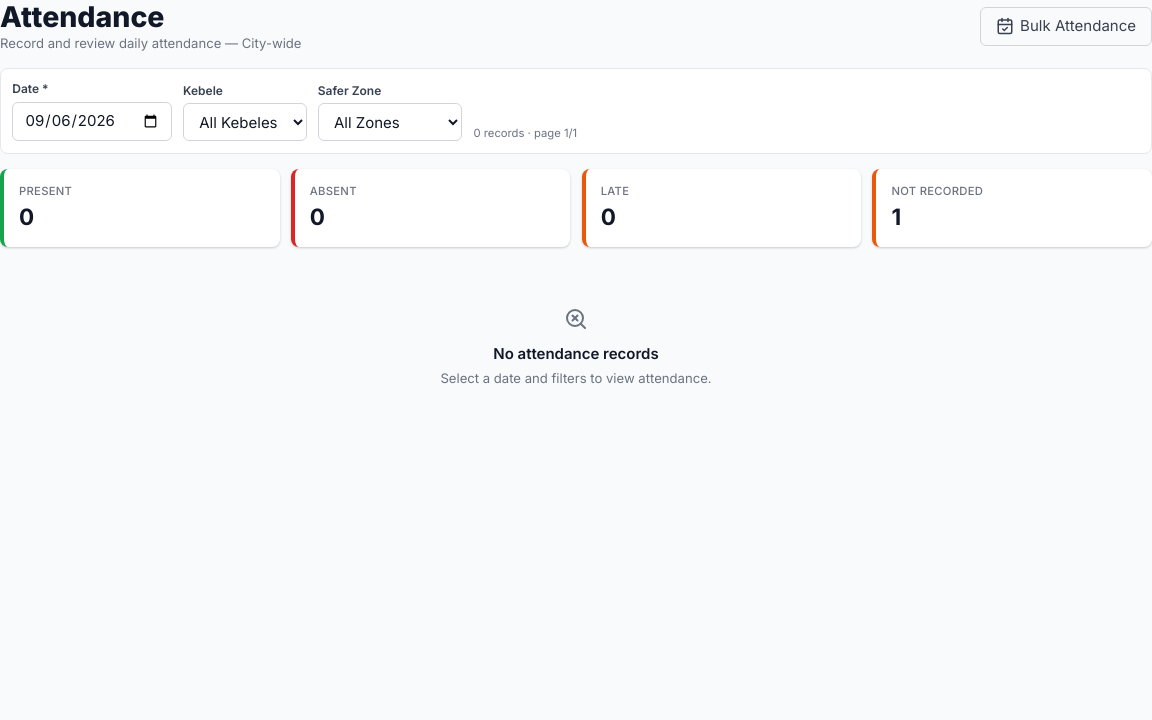
it: Attendance page › handles unauthorized bulk submission safely (shows error, no token)
Click the button "Bulk Attendance": (1066, 26) x1=980 y1=7 x2=1151 y2=46
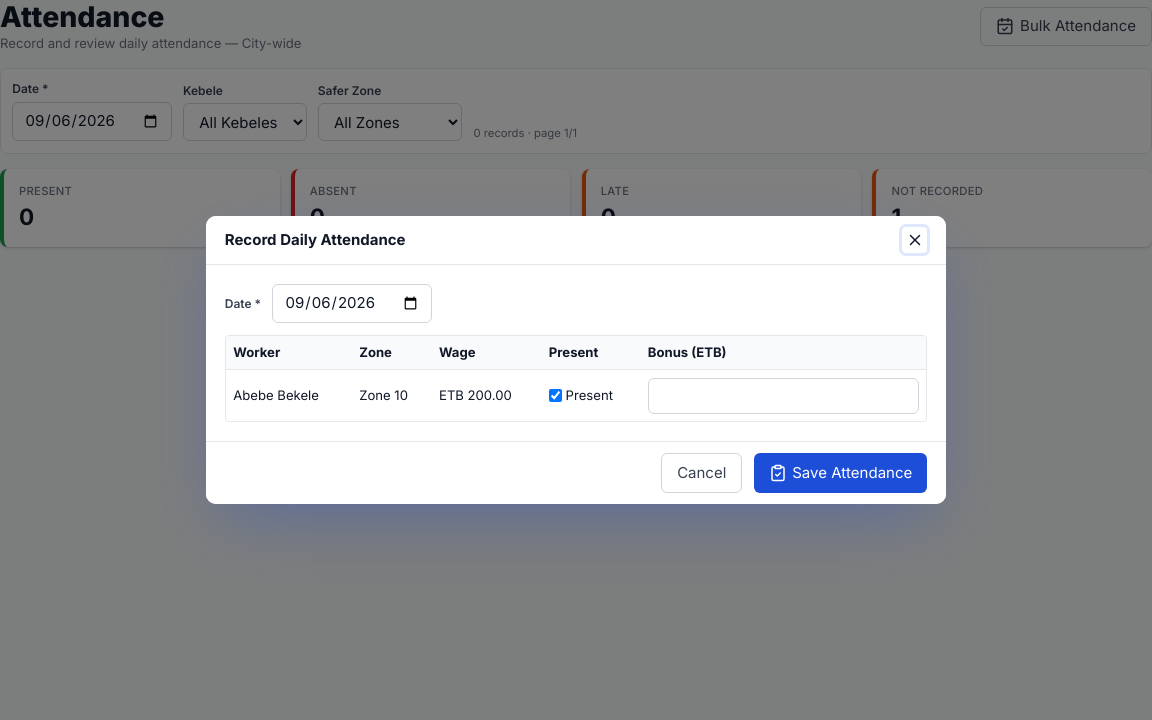
Expected: the dialog "Record Daily Attendance" is shown
Click the button "Save Attendance": (840, 473) x1=754 y1=453 x2=927 y2=493
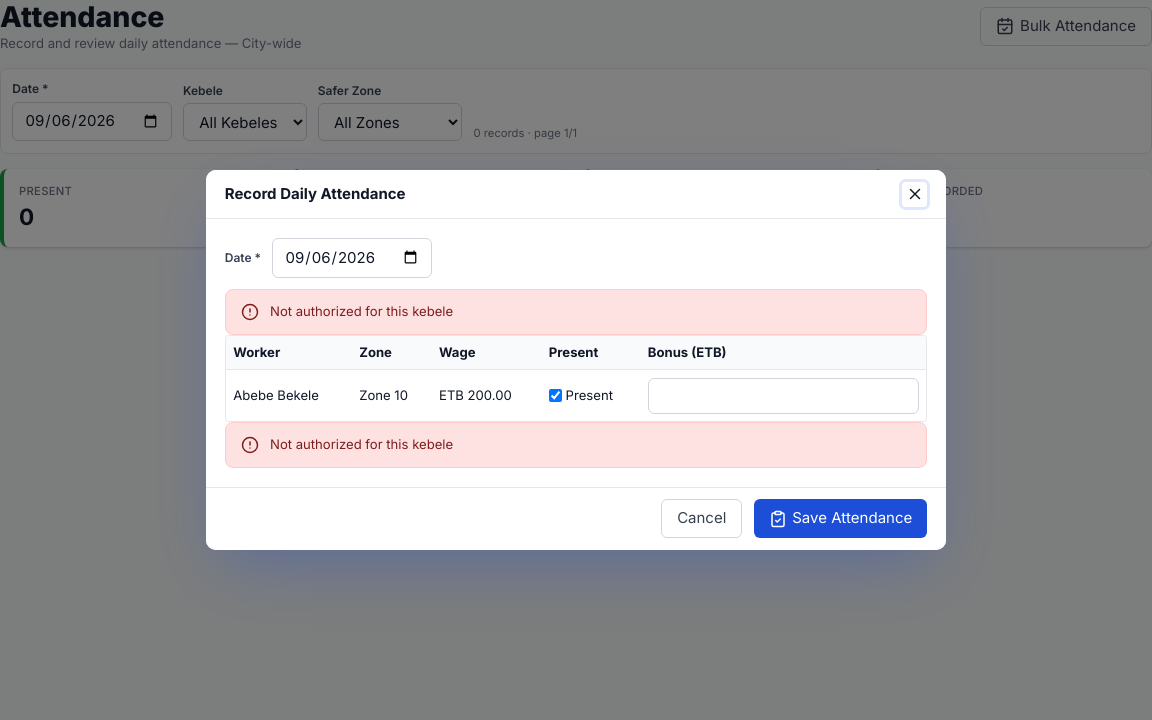
Expected: the 1st text "Not authorized for this kebele" is shown, x1=270 y1=301 x2=453 y2=322
